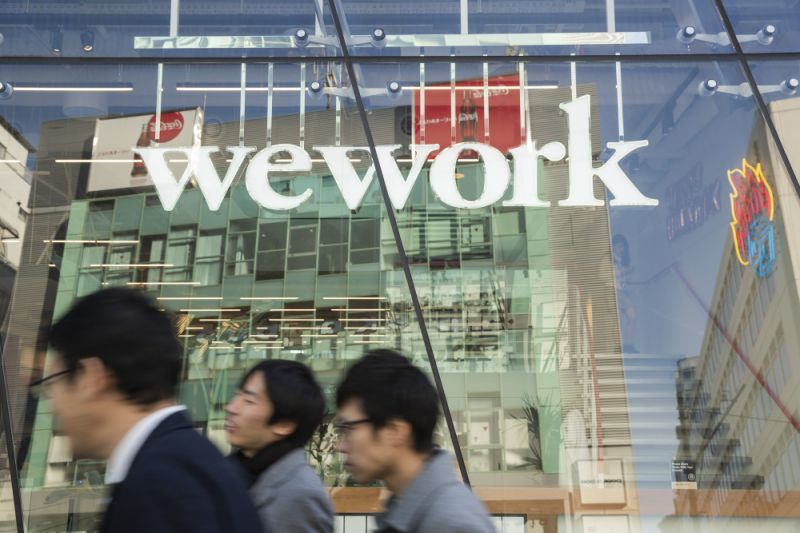wework: (127, 90, 665, 215)
